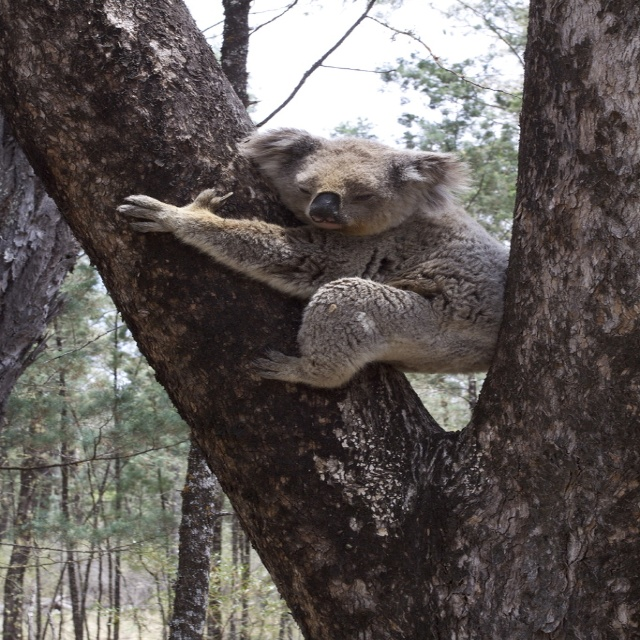Koala: (121, 129, 508, 386)
